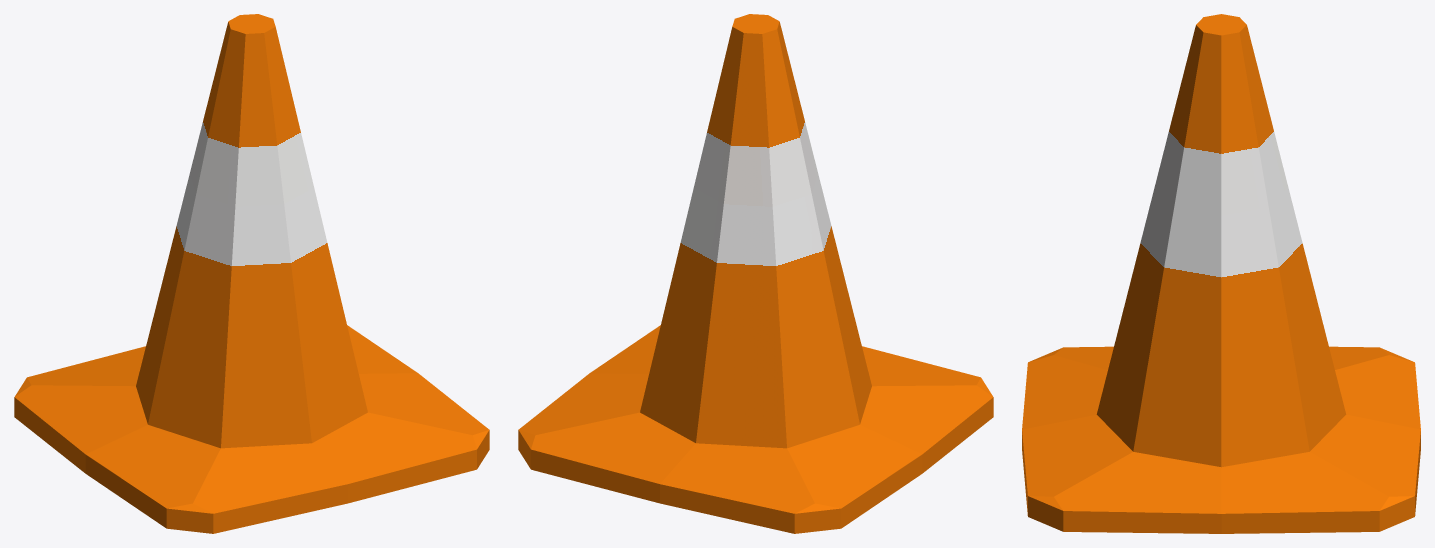
The model's file is traffic_cone.glb.
3 renders of one model, left to right at view 1: azimuth 30°, elevation 25°; view 2: azimuth 150°, elevation 25°; view 3: azimuth 270°, elevation 25°, orthographic. The views are drawn at different scales.
Parts seen in each view (by area): view 1: Cone; view 2: Cone; view 3: Cone.
Part boxes in pixels (left/top/right/bottom): Cone: left=14, top=14, right=489, bottom=533; Cone: left=518, top=14, right=993, bottom=533; Cone: left=1022, top=14, right=1420, bottom=533.
Bounding box in the file's own units: 0.6253 × 0.7356 × 0.6253.
Materials: 1 (1 with a texture image).
